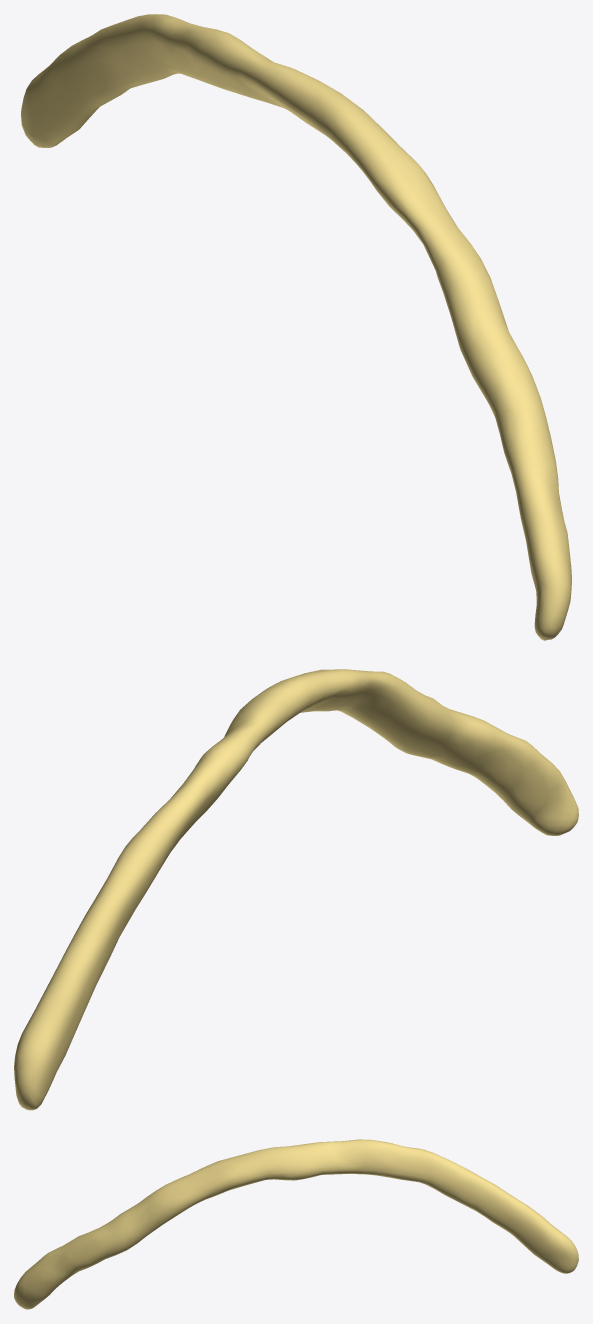
File: fma72988_mm2802m.glb
3 views of the same model, one above another, from view 1: azimuth 30°, elevation 25°; view 2: azimuth 150°, elevation 25°; view 3: azimuth 270°, elevation 25° (orthographic). The views are drawn at different scales.
Parts seen in each view (by area): view 1: FMA72988_MM2802M; view 2: FMA72988_MM2802M; view 3: FMA72988_MM2802M.
Boxes of the visible parts, x1,y1,x2,y2 form: FMA72988_MM2802M: (21, 14, 571, 640); FMA72988_MM2802M: (14, 669, 578, 1110); FMA72988_MM2802M: (14, 1139, 578, 1309).
Bounding box in the file's own units: 0.0023 × 0.00749 × 0.0222.
